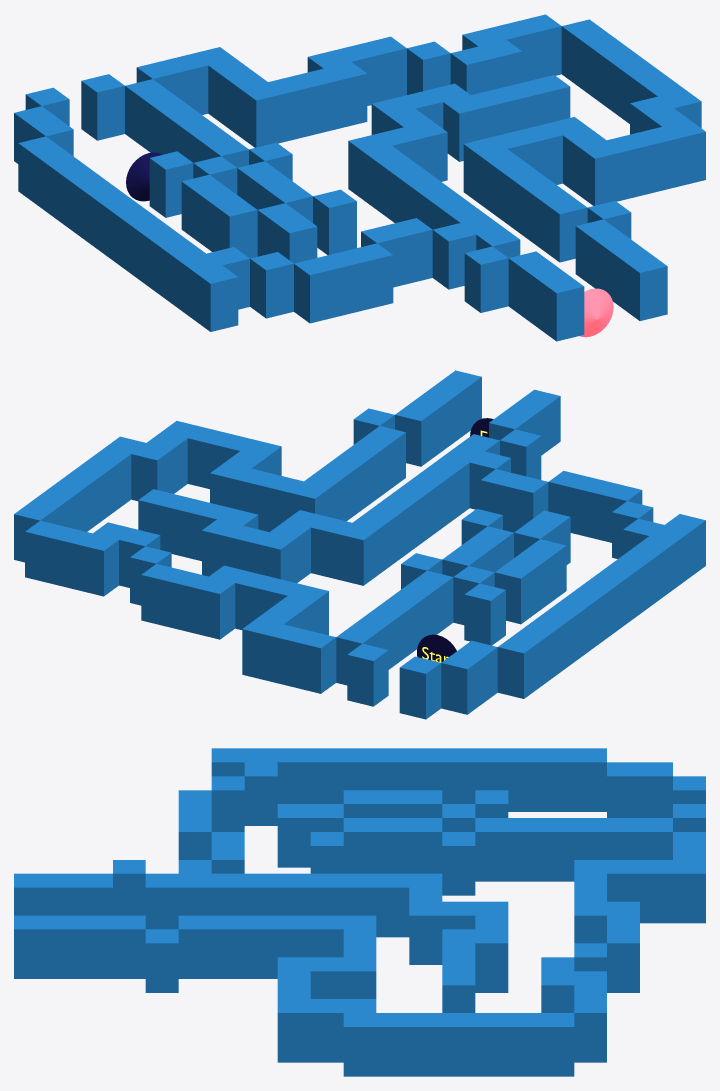
Rendered from level1.fbx.
3 views of the same model, one above another, from view 1: azimuth 30°, elevation 25°; view 2: azimuth 150°, elevation 25°; view 3: azimuth 270°, elevation 25° (orthographic). The views are drawn at different scales.
Parts seen in each view (by area): view 1: Plane.001; view 2: Plane.001; view 3: Plane.001.
Part boxes in pixels (x1,y1,x2,y2): Plane.001: (14,14,705,341); Plane.001: (14,370,705,719); Plane.001: (14,748,705,1076).
Bounding box in the file's own units: 1420 × 173 × 1491.
